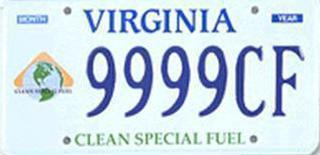placa de veiculo: (8, 0, 319, 154)
